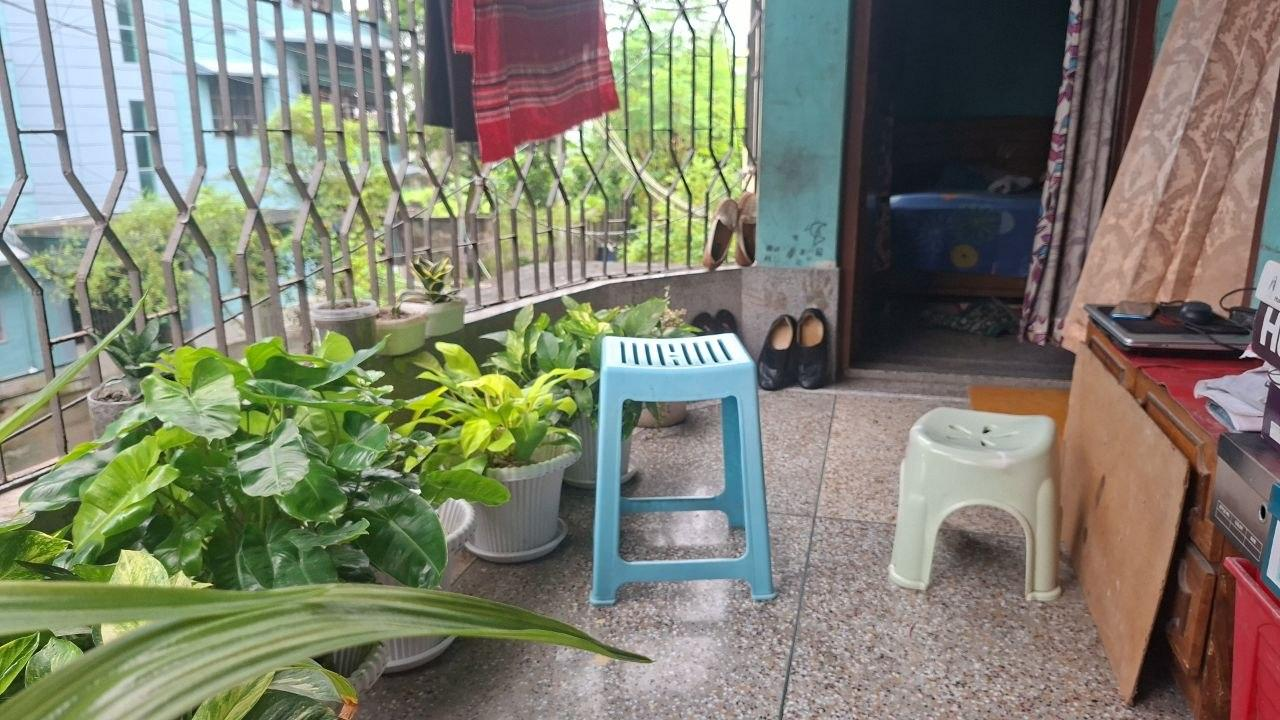Footwear: (756, 295, 836, 390), (706, 189, 760, 272)
Laptop: (1081, 289, 1255, 356)
Mouse: (1144, 287, 1238, 327)
Phone: (1102, 287, 1161, 329)
Plant: (0, 365, 438, 716), (429, 413, 587, 570), (371, 283, 469, 354), (304, 293, 388, 365)
Stool: (589, 331, 784, 616), (895, 402, 1062, 618)
Towel: (448, 0, 635, 159)
